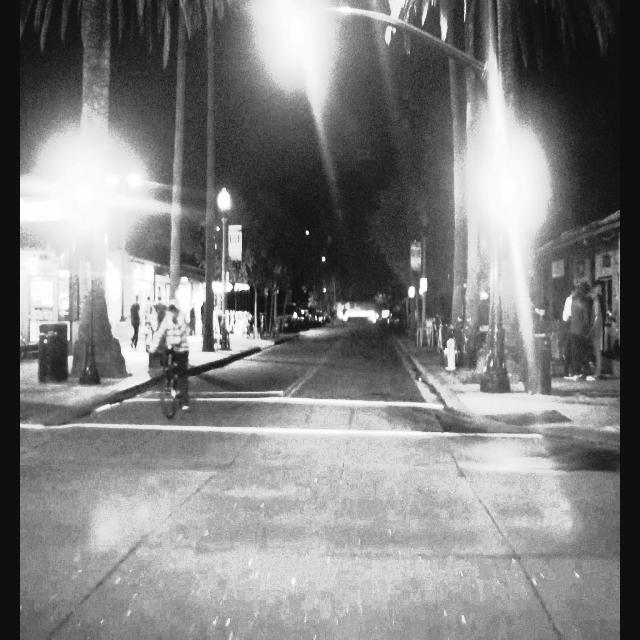Light: (495, 170, 519, 204), (72, 179, 96, 210), (286, 17, 308, 48)
Tree: (67, 0, 135, 380)
